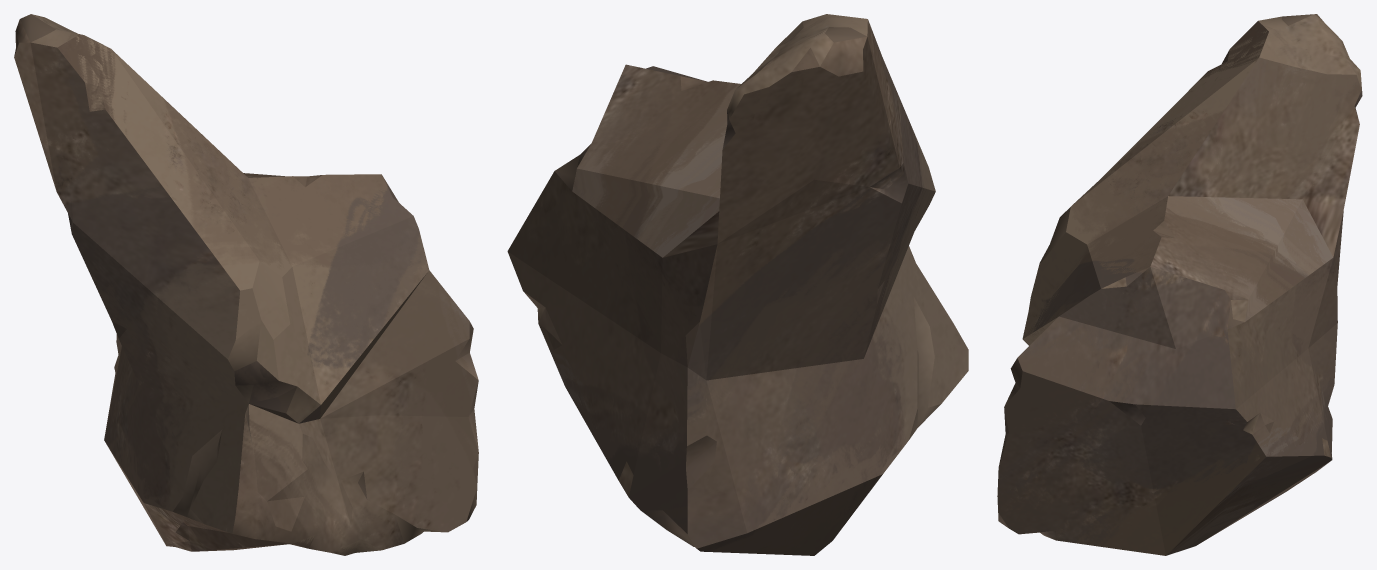
The model's file is P_ROCK 8.fbx.
3 renders of one model, left to right at view 1: azimuth 30°, elevation 25°; view 2: azimuth 150°, elevation 25°; view 3: azimuth 270°, elevation 25°, orthographic. The views are drawn at different scales.
Visible parts, largest first — view 1: Rock_08; view 2: Rock_08; view 3: Rock_08.
Boxes of the visible parts, x1,y1,x2,y2 form: Rock_08: [14, 14, 478, 555]; Rock_08: [507, 14, 968, 555]; Rock_08: [997, 14, 1362, 555].
Size of the model in its own units: 141 by 207 by 149.
